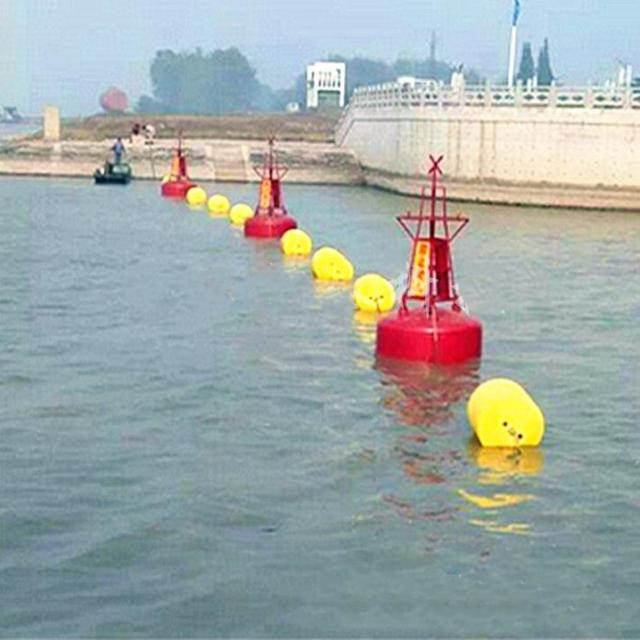buoy: (370, 154, 480, 361), (234, 131, 306, 243), (158, 130, 191, 198)
